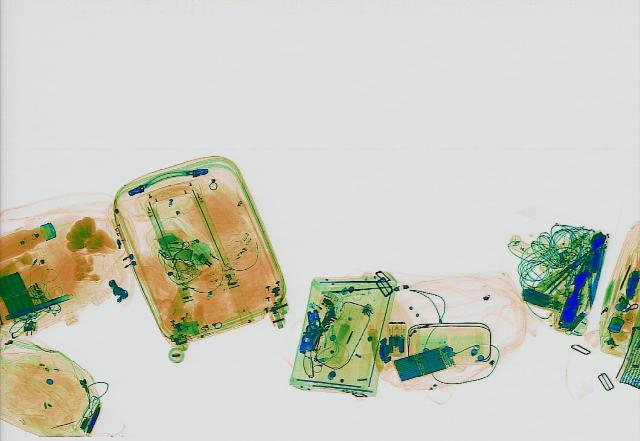Pliers: (540, 247, 596, 295)
